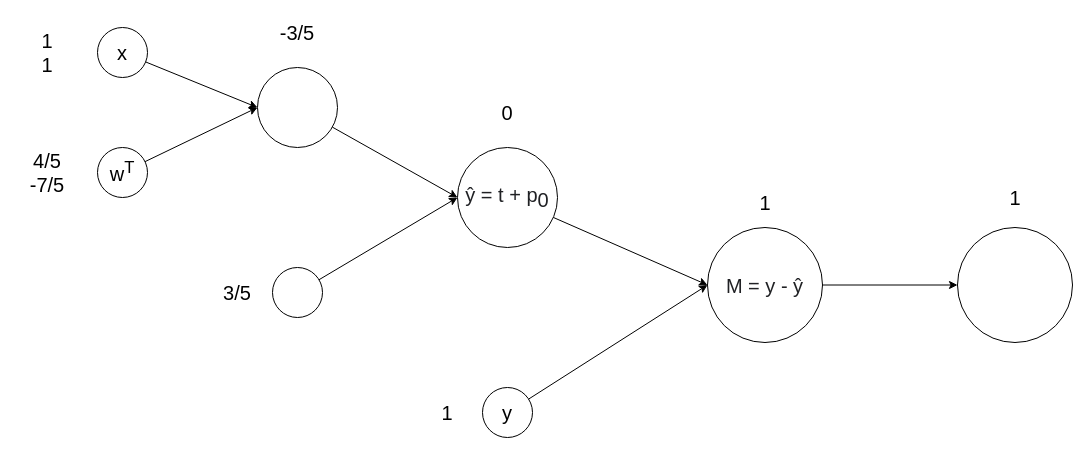
The diagram is 1090 pixels wide and 455 high, and some of its shapes have lost their labels. Each missing label, with the centre of its shape:
MSE = M 2: the point at 1014,284
p 0: the point at 297,292
t = w T .x: the point at 297,107
